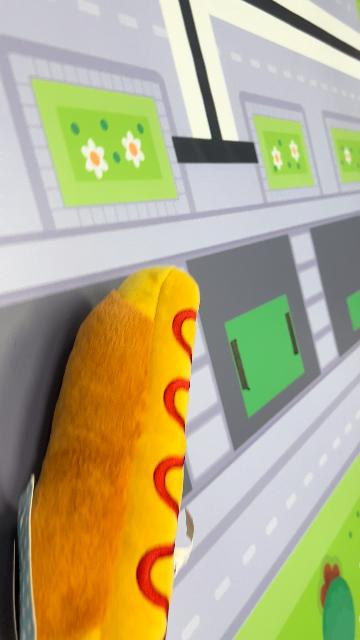hotdog: (25, 264, 203, 638)
